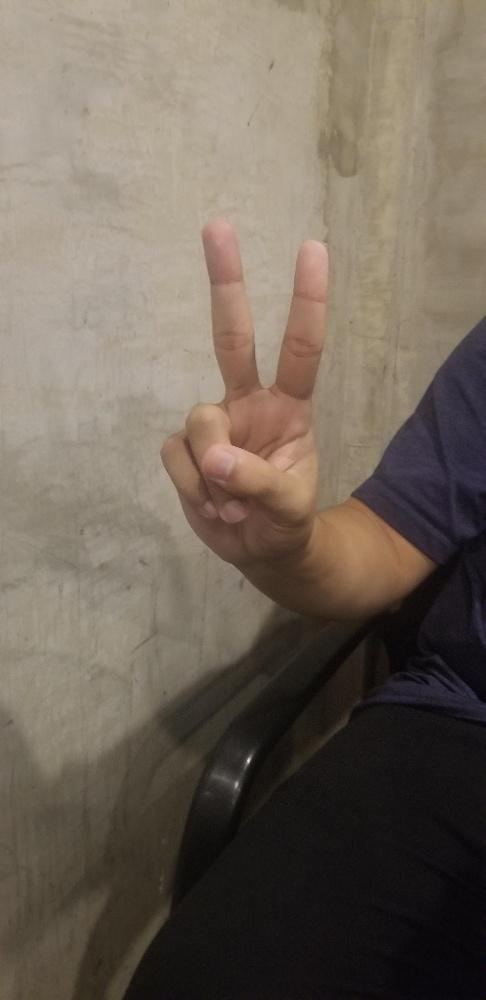v: (157, 218, 333, 568)
